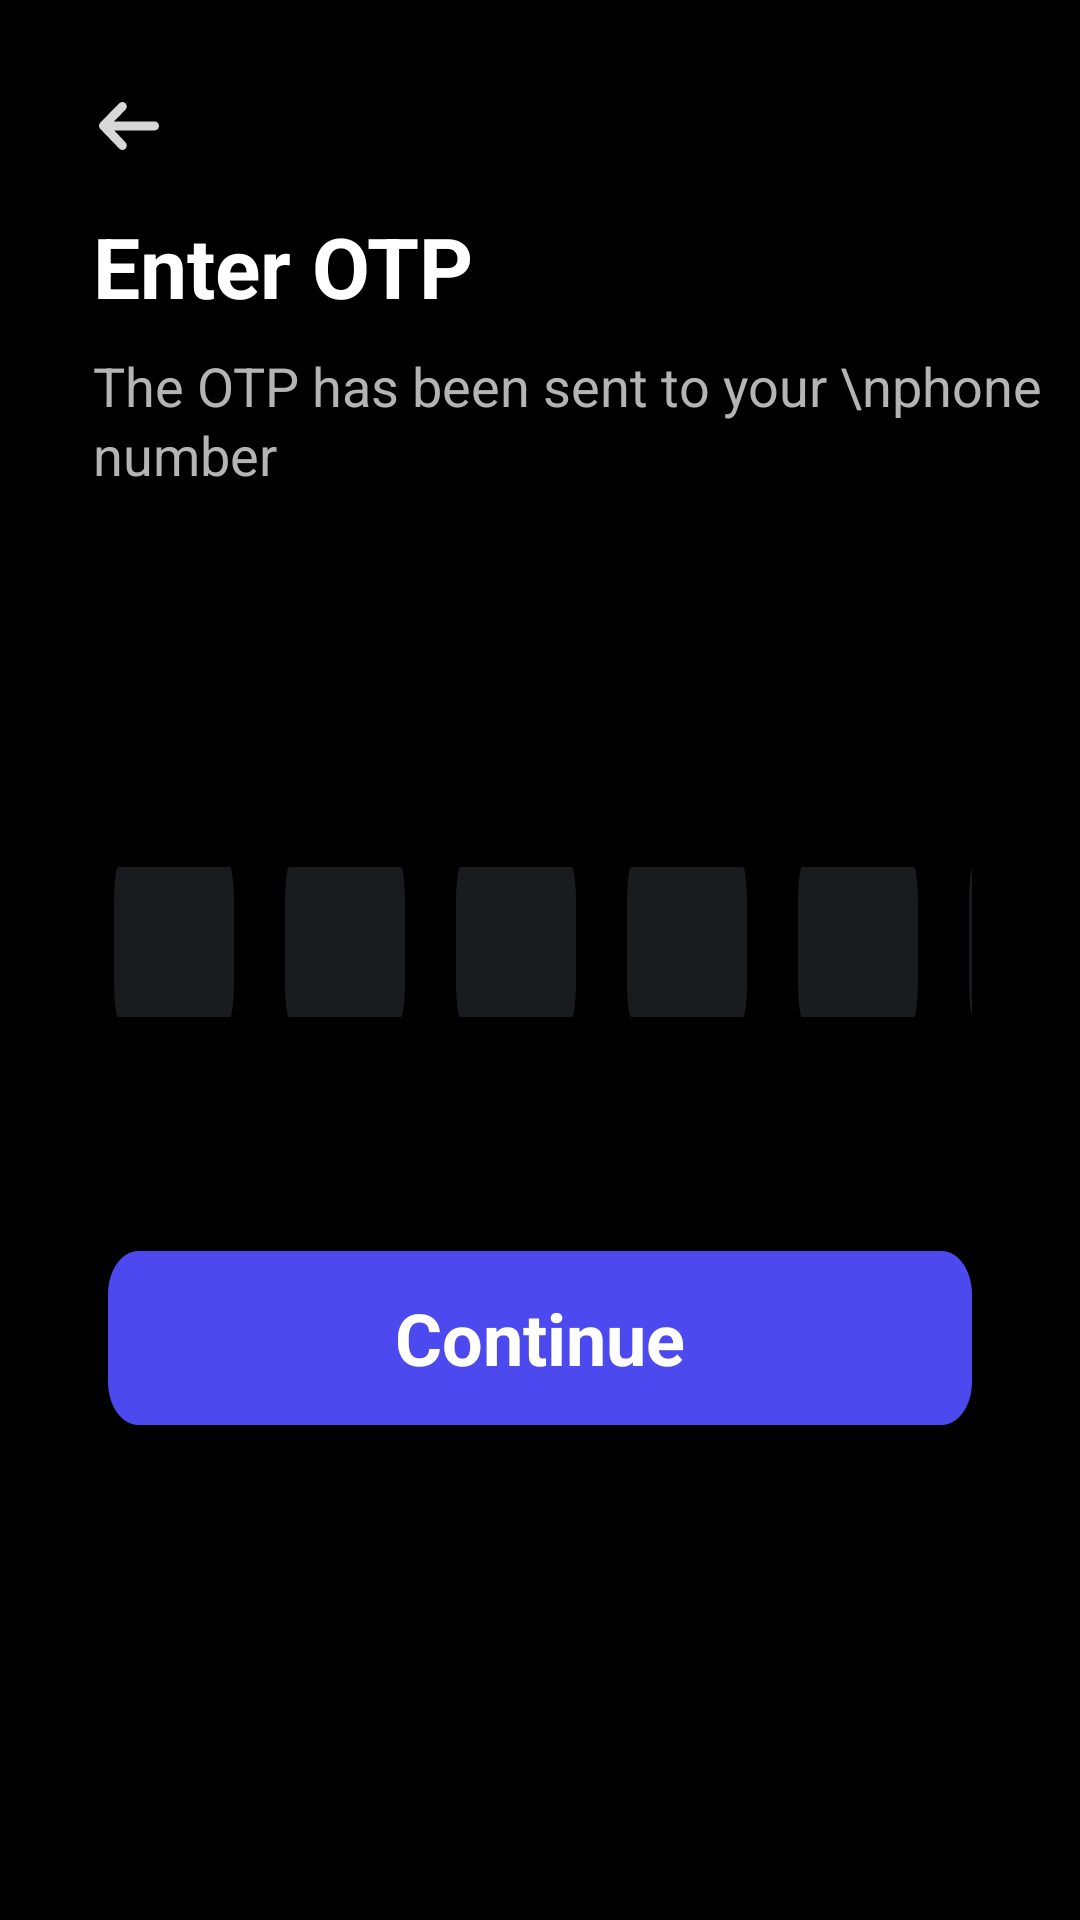

Screen size 1080 x 1920. Icon name, then its box in pixels as (x1, y1, x2, y2):
back arrow: (99, 102, 159, 150)
